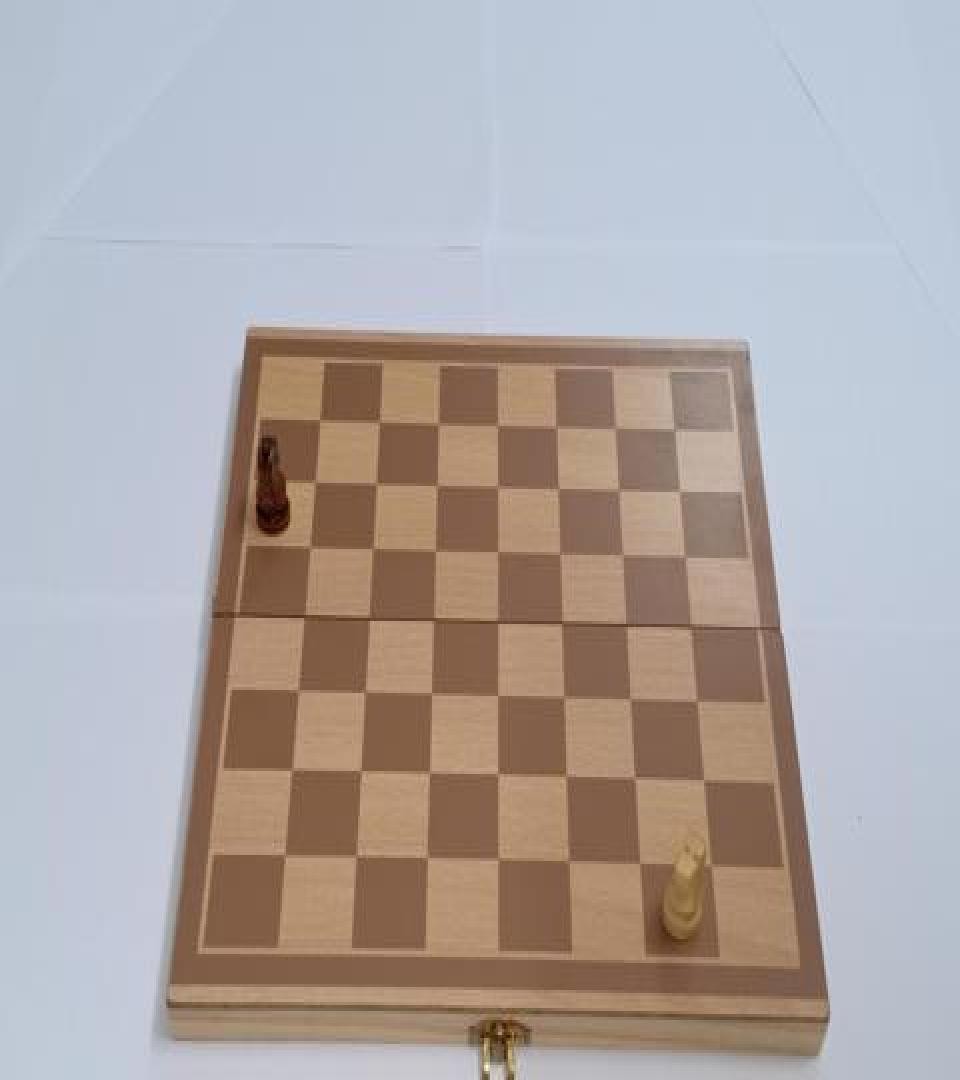xcorner: (304, 472, 322, 500), (486, 478, 504, 506), (545, 418, 563, 446), (309, 411, 327, 438), (299, 538, 317, 565), (289, 681, 307, 708), (283, 759, 301, 786), (277, 843, 295, 870), (367, 414, 385, 441), (362, 540, 380, 567), (358, 609, 376, 636), (355, 683, 373, 710), (352, 762, 370, 789), (348, 844, 366, 871), (426, 415, 444, 442), (425, 477, 443, 504), (423, 612, 441, 639), (485, 417, 503, 444), (487, 545, 505, 572), (488, 687, 506, 714), (489, 766, 507, 793), (490, 851, 508, 878), (547, 480, 565, 507), (549, 546, 567, 573), (552, 615, 570, 642), (555, 690, 573, 717), (558, 768, 576, 795), (561, 852, 579, 879), (604, 420, 622, 447), (608, 481, 626, 508), (617, 618, 635, 645), (627, 771, 645, 798), (632, 855, 650, 882), (669, 483, 687, 510), (675, 549, 693, 576), (688, 693, 706, 720), (696, 772, 714, 799), (704, 857, 722, 884), (294, 608, 312, 634), (365, 476, 383, 502), (424, 542, 442, 568), (422, 686, 440, 712), (420, 764, 438, 790), (419, 848, 437, 874), (487, 614, 505, 640), (612, 548, 630, 574), (622, 692, 640, 718), (663, 422, 681, 448), (682, 620, 700, 646)
